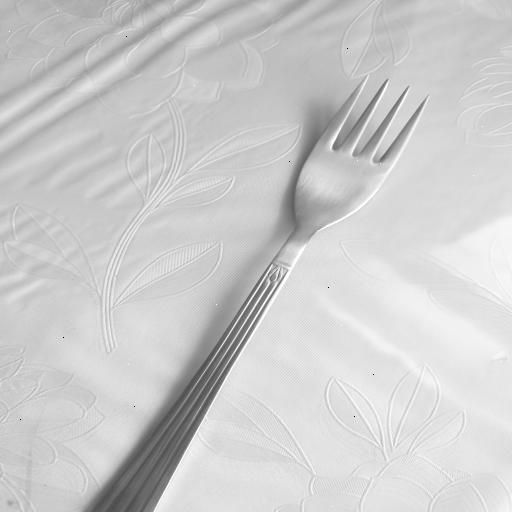fork: (92, 73, 438, 512)
